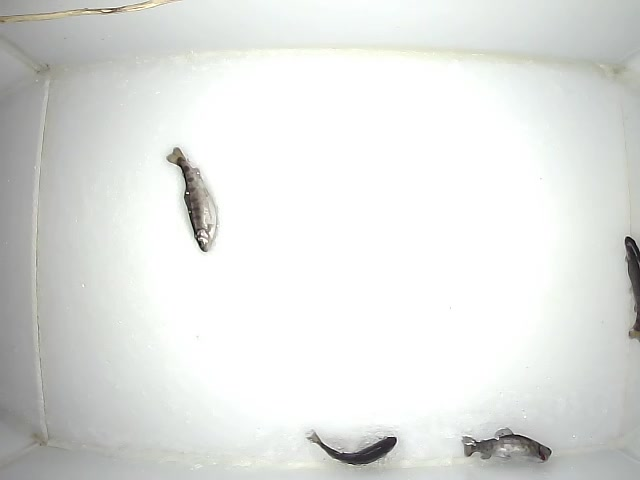fish: (162, 145, 218, 254), (303, 426, 398, 467), (460, 427, 553, 465), (623, 231, 640, 340)
